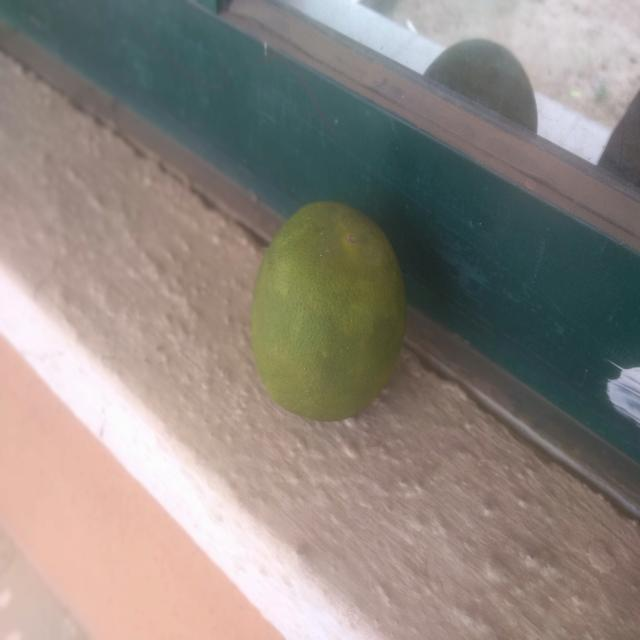Unripe: (251, 191, 418, 442)
